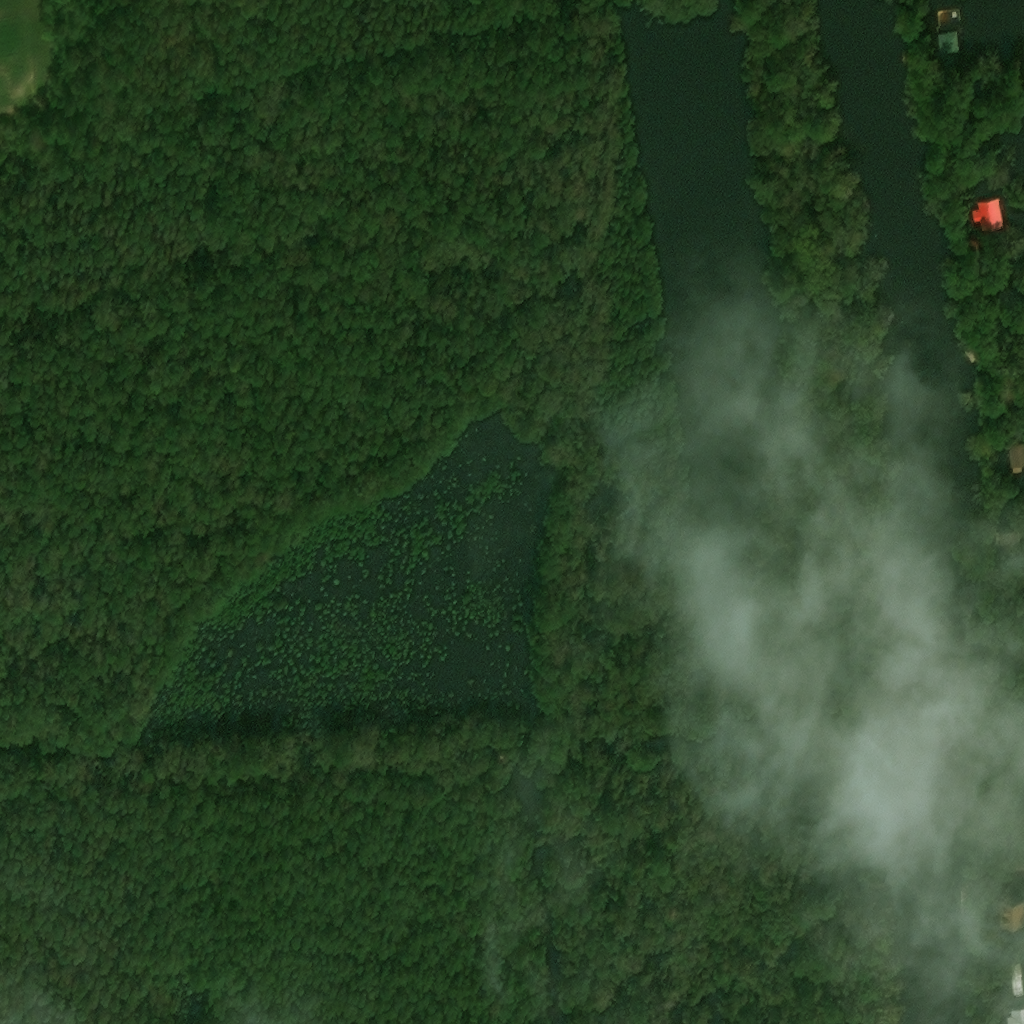major_damage: (966, 195, 1002, 226), (934, 28, 956, 51), (1005, 439, 1022, 463)
unclassified: (992, 897, 1022, 924), (1004, 959, 1022, 993), (992, 518, 1018, 541), (862, 884, 883, 905), (1000, 1004, 1022, 1023), (978, 923, 1000, 940), (995, 857, 1022, 870), (962, 904, 982, 921)
